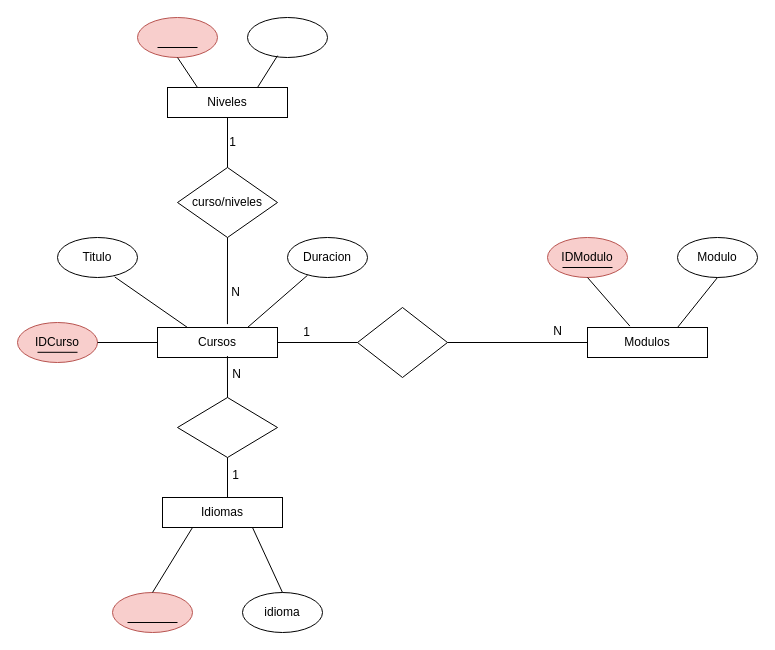
Some shapes in this 775 by 650 pixel diagram are drawn without their labels. Each missing label, with the centre of its shape:
curso/idioma: the point at 227,427
curso/modulo: the point at 402,342
IDIdioma: the point at 152,612
IDNivel: the point at 177,37
Nivel: the point at 287,37
